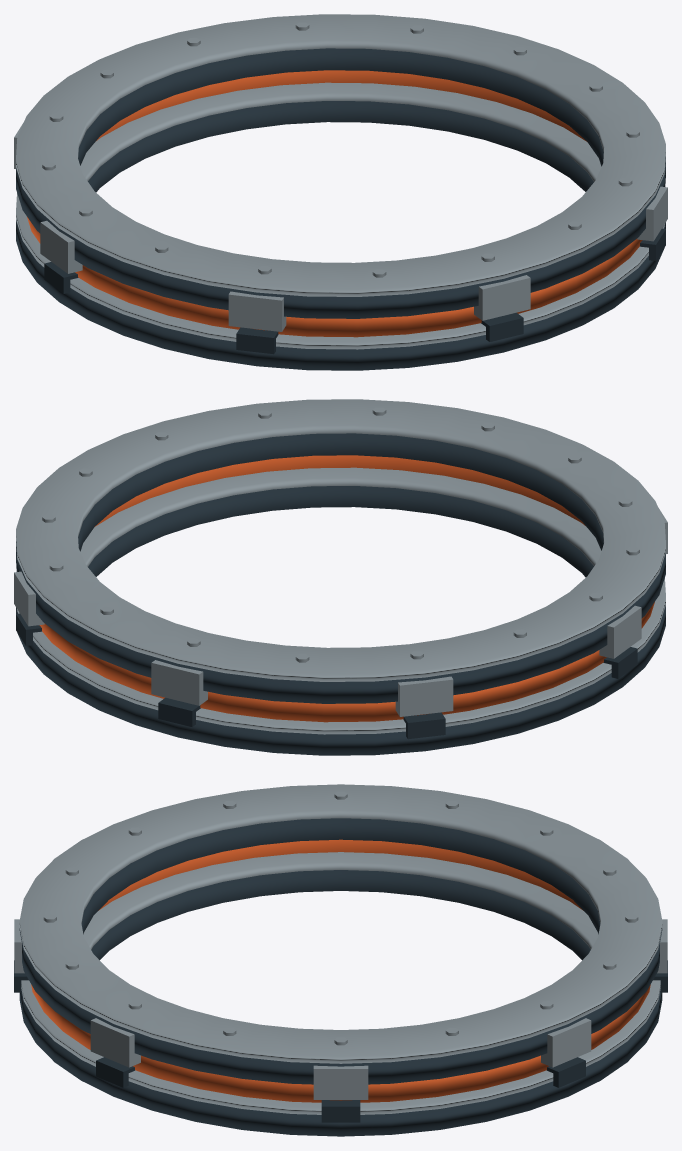
The model's file is o_12_schelchok.glb.
The picture shows the model from 3 angles, top to bottom: view 1: azimuth 30°, elevation 25°; view 2: azimuth 150°, elevation 25°; view 3: azimuth 270°, elevation 25°; orthographic projection.
Visible parts, largest first — view 1: o_12_schelchok.retained_ring.mesh_JUGRE_·_bead-blasted_titan, o_12_schelchok.release_ring.mesh_JUGRE_·_graphite_composite, o_12_schelchok.retained_ring.mesh_JUGRE_·_graphite_composite, o_12_schelchok.release_ring.mesh_JUGRE_·_bead-blasted_titani, o_12_schelchok.mesh_JUGRE_·_oxide_orange; view 2: o_12_schelchok.retained_ring.mesh_JUGRE_·_bead-blasted_titan, o_12_schelchok.release_ring.mesh_JUGRE_·_graphite_composite, o_12_schelchok.retained_ring.mesh_JUGRE_·_graphite_composite, o_12_schelchok.release_ring.mesh_JUGRE_·_bead-blasted_titani, o_12_schelchok.mesh_JUGRE_·_oxide_orange; view 3: o_12_schelchok.retained_ring.mesh_JUGRE_·_bead-blasted_titan, o_12_schelchok.release_ring.mesh_JUGRE_·_graphite_composite, o_12_schelchok.retained_ring.mesh_JUGRE_·_graphite_composite, o_12_schelchok.release_ring.mesh_JUGRE_·_bead-blasted_titani, o_12_schelchok.mesh_JUGRE_·_oxide_orange.
Part boxes in pixels (box(x1,y1,x2,y2)): o_12_schelchok.retained_ring.mesh_JUGRE_·_bead-blasted_titan: box(14, 14, 667, 331); o_12_schelchok.release_ring.mesh_JUGRE_·_graphite_composite: box(16, 101, 665, 370); o_12_schelchok.retained_ring.mesh_JUGRE_·_graphite_composite: box(16, 48, 665, 318); o_12_schelchok.release_ring.mesh_JUGRE_·_bead-blasted_titani: box(16, 82, 664, 349); o_12_schelchok.mesh_JUGRE_·_oxide_orange: box(27, 70, 642, 337); o_12_schelchok.retained_ring.mesh_JUGRE_·_bead-blasted_titan: box(14, 399, 667, 716); o_12_schelchok.release_ring.mesh_JUGRE_·_graphite_composite: box(16, 486, 665, 755); o_12_schelchok.retained_ring.mesh_JUGRE_·_graphite_composite: box(16, 433, 665, 703); o_12_schelchok.release_ring.mesh_JUGRE_·_bead-blasted_titani: box(17, 467, 665, 734); o_12_schelchok.mesh_JUGRE_·_oxide_orange: box(39, 455, 654, 722); o_12_schelchok.retained_ring.mesh_JUGRE_·_bead-blasted_titan: box(14, 784, 667, 1099); o_12_schelchok.release_ring.mesh_JUGRE_·_graphite_composite: box(14, 870, 667, 1136); o_12_schelchok.retained_ring.mesh_JUGRE_·_graphite_composite: box(19, 818, 662, 1084); o_12_schelchok.release_ring.mesh_JUGRE_·_bead-blasted_titani: box(21, 852, 660, 1114); o_12_schelchok.mesh_JUGRE_·_oxide_orange: box(31, 839, 650, 1102).
Size of the model in its own units: 1.27 by 0.18 by 1.27.
